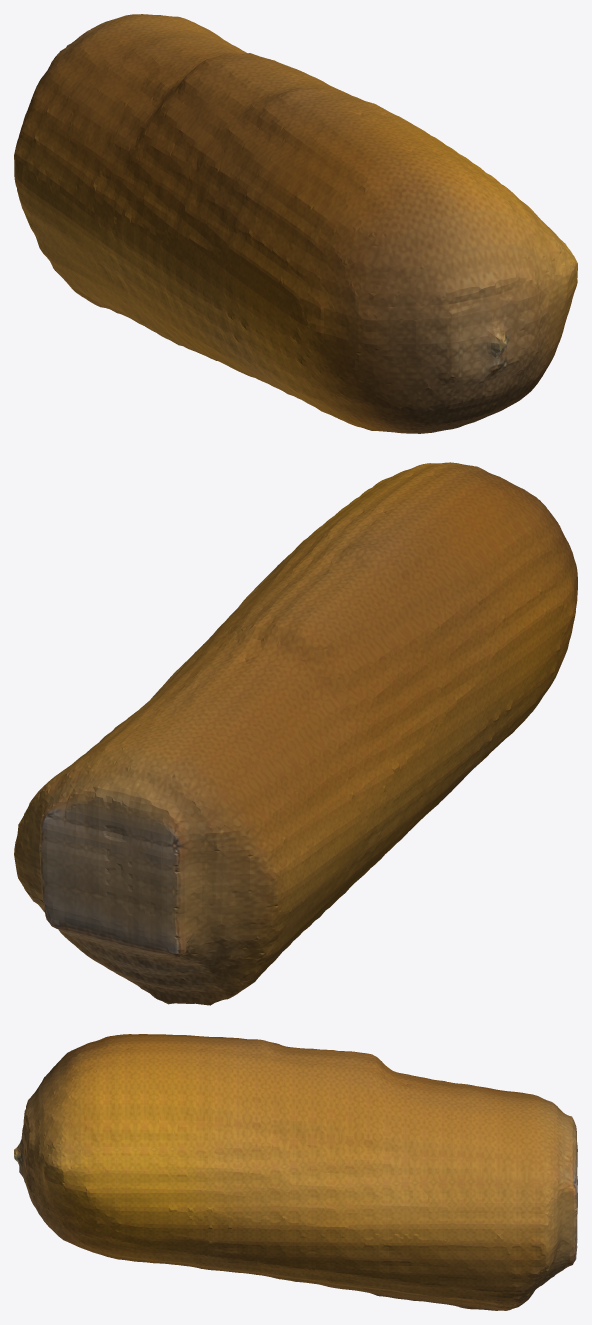
The model's file is 2_rgba.obj.
3 views of the same model, one above another, from view 1: azimuth 30°, elevation 25°; view 2: azimuth 150°, elevation 25°; view 3: azimuth 270°, elevation 25° (orthographic). The views are drawn at different scales.
Size of the model in its own units: 0.7484 by 0.9606 by 1.89.
1 material, 1 textured.
